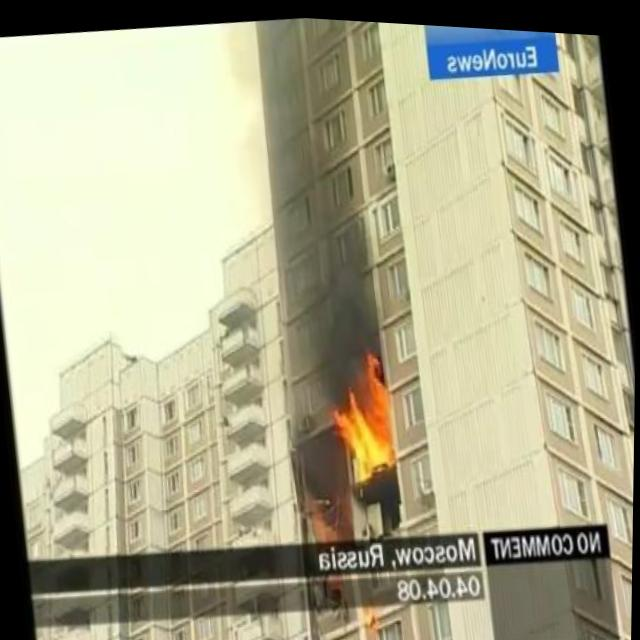fire: (323, 339, 402, 476), (300, 500, 344, 542)
